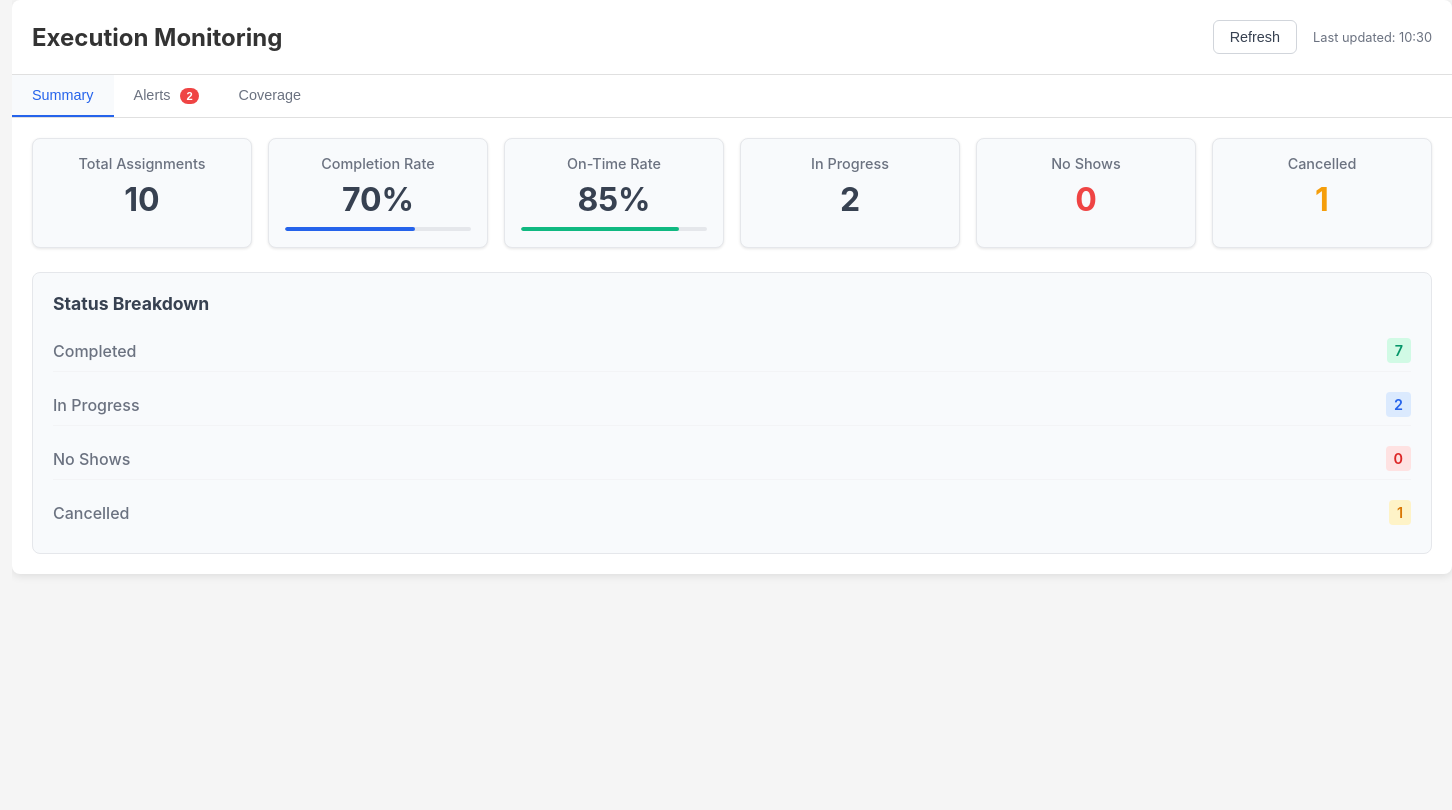
ExecutionMonitoring › should display coverage information
Click the button "Coverage".
click(270, 96)  # box [219, 75, 321, 117]
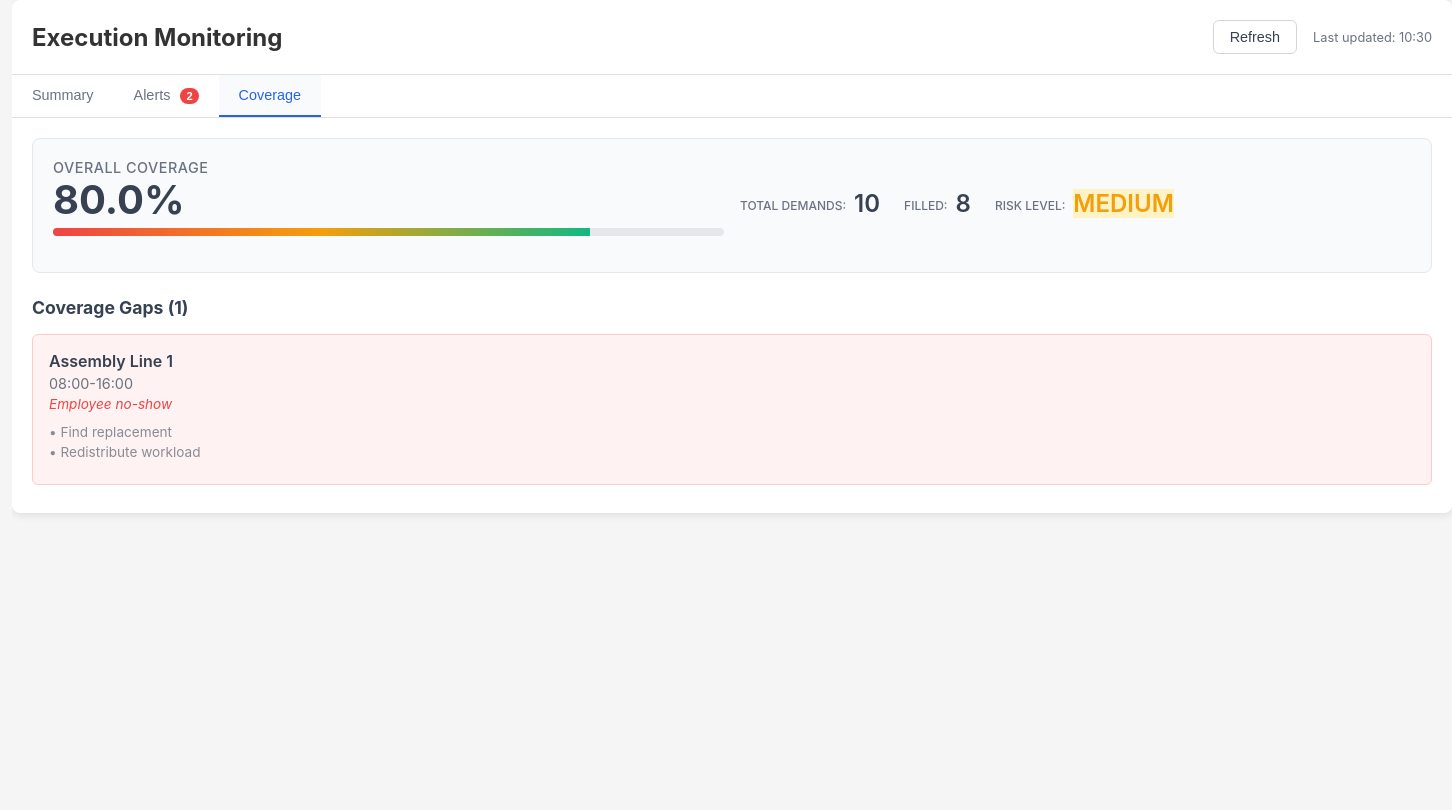
Expected: the text "Overall Coverage" is shown, [53, 159, 208, 176]
Expected: the text "80.0%" is shown, [53, 175, 185, 224]
Expected: the text "Total Demands:" is shown, [740, 198, 846, 213]
